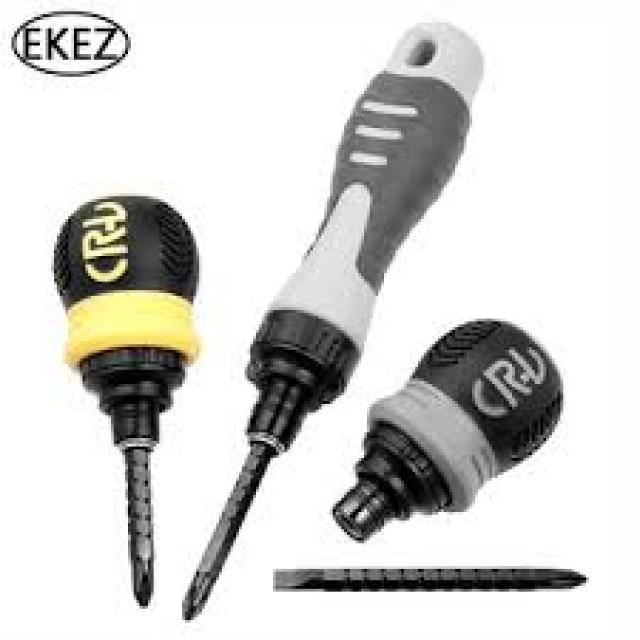screwdriver: (179, 19, 492, 618), (50, 193, 204, 609)
